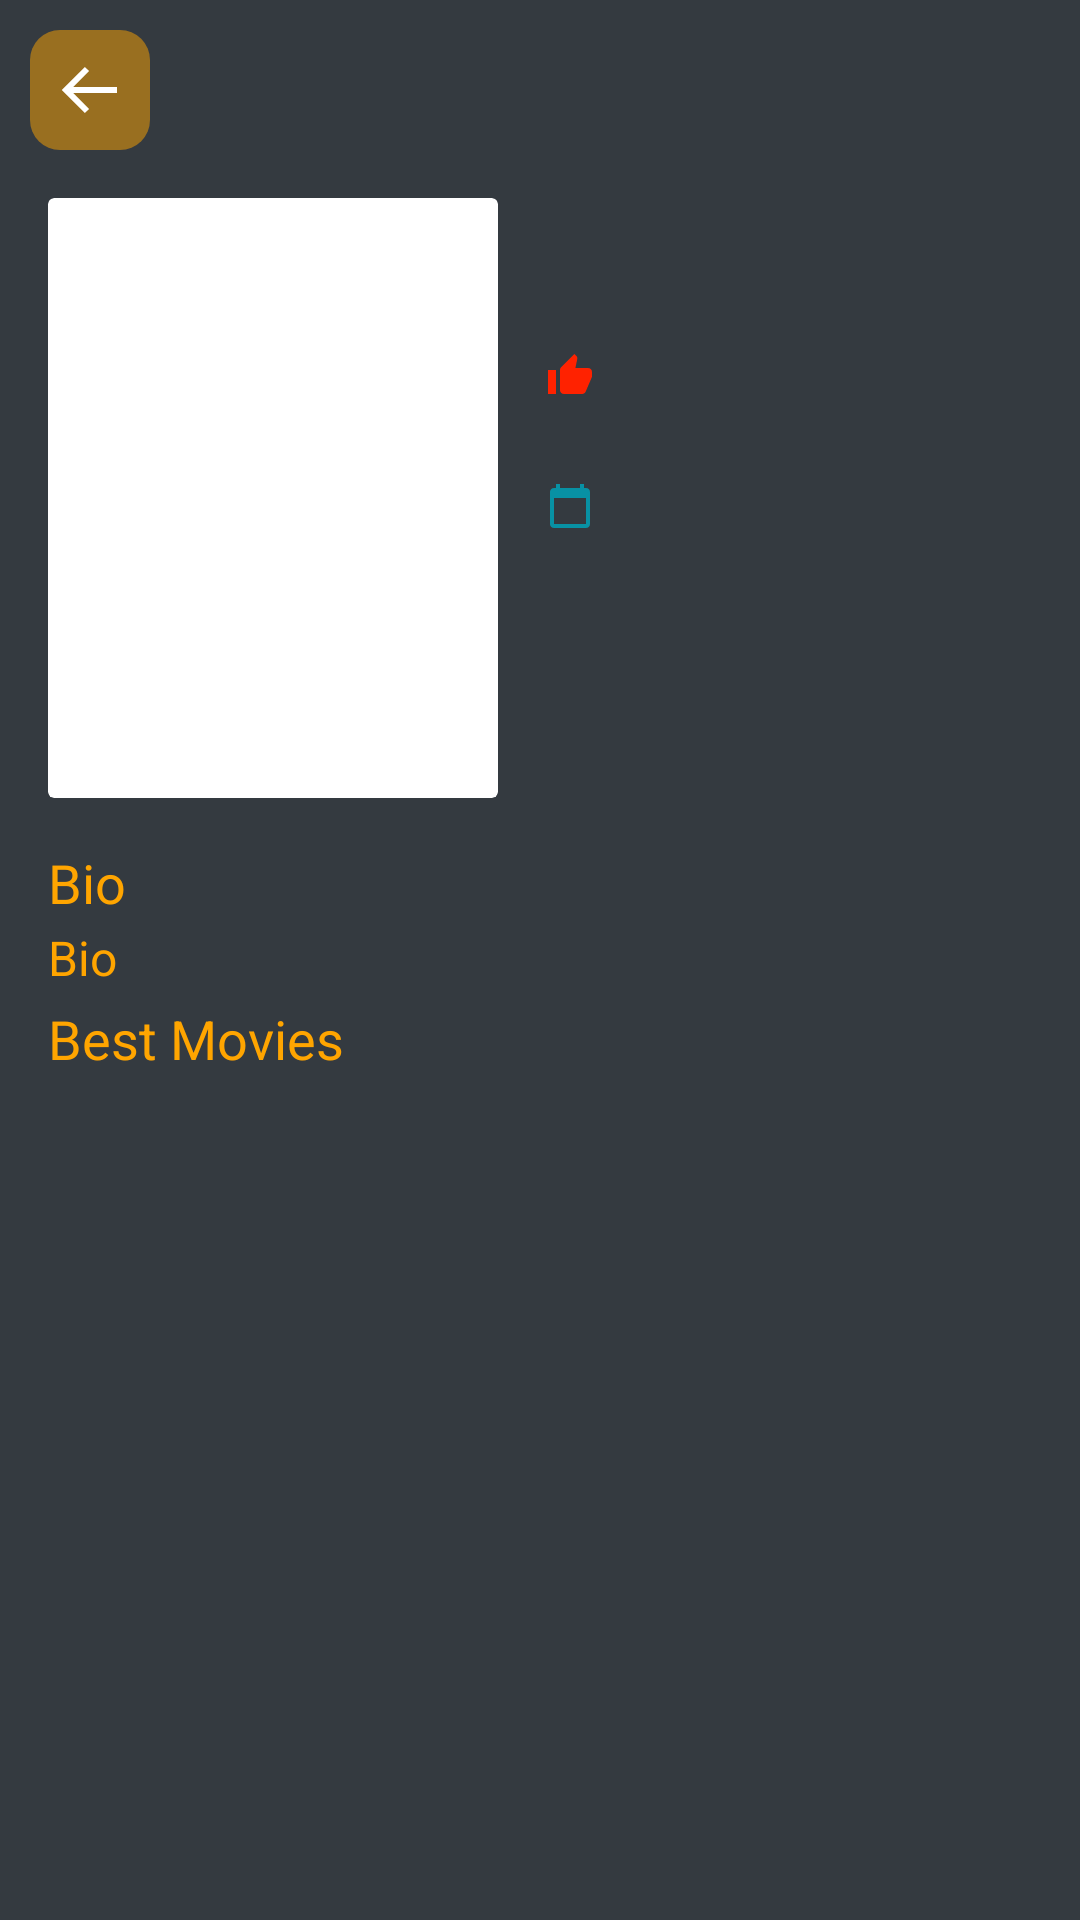

Named icons in this screenshot (1080w x 1920h) and their bounding boxes, (x1, y1, x2, y2):
back: (30, 30, 150, 150)
